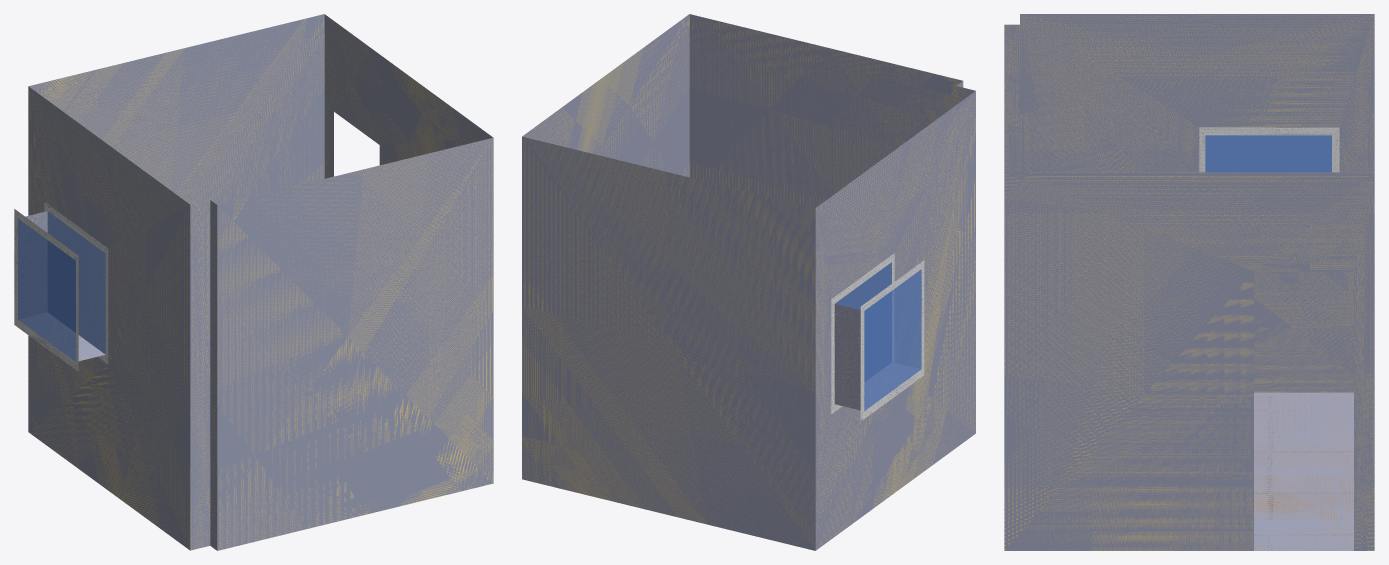
The model's file is DES035.obj.
3 views of the same model, side by side, from view 1: azimuth 30°, elevation 25°; view 2: azimuth 150°, elevation 25°; view 3: azimuth 270°, elevation 25° (orthographic). The views are drawn at different scales.
Visible parts, largest first — view 1: Mesh5 DES035 Model, Mesh1 Group1 DES035 Model; view 2: Mesh5 DES035 Model, Mesh1 Group1 DES035 Model; view 3: Mesh5 DES035 Model, Mesh1 Group1 DES035 Model.
Boxes of the visible parts, x1,y1,x2,y2 form: Mesh5 DES035 Model: (28, 14, 493, 550); Mesh1 Group1 DES035 Model: (14, 202, 108, 371); Mesh5 DES035 Model: (522, 14, 975, 550); Mesh1 Group1 DES035 Model: (831, 253, 924, 421); Mesh5 DES035 Model: (1004, 14, 1374, 550); Mesh1 Group1 DES035 Model: (1199, 127, 1339, 172).
Bounding box in the file's own units: 2.96 × 3 × 2.66.
Materials: 6 (2 with a texture image).
